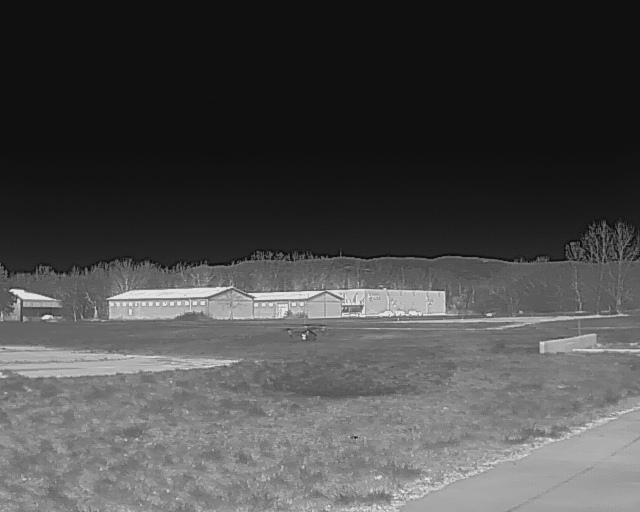drone: (281, 319, 328, 350)
